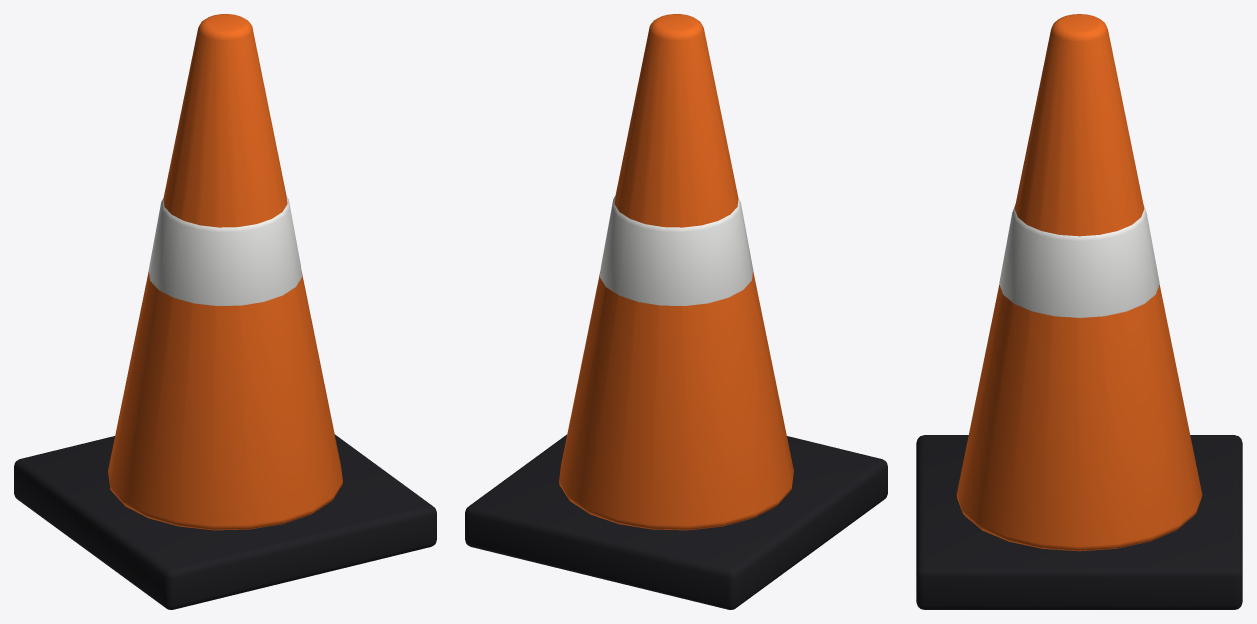
File: cone_transito.glb
3 views of the same model, side by side, from view 1: azimuth 30°, elevation 25°; view 2: azimuth 150°, elevation 25°; view 3: azimuth 270°, elevation 25° (orthographic). The views are drawn at different scales.
Visible parts, largest first — view 1: cone_transito; view 2: cone_transito; view 3: cone_transito.
Boxes of the visible parts, x1=… form: cone_transito: x1=14, y1=14, x2=436, y2=609; cone_transito: x1=465, y1=14, x2=887, y2=609; cone_transito: x1=916, y1=14, x2=1242, y2=609.
Size of the model in its own units: 0.42 by 0.74 by 0.42.
